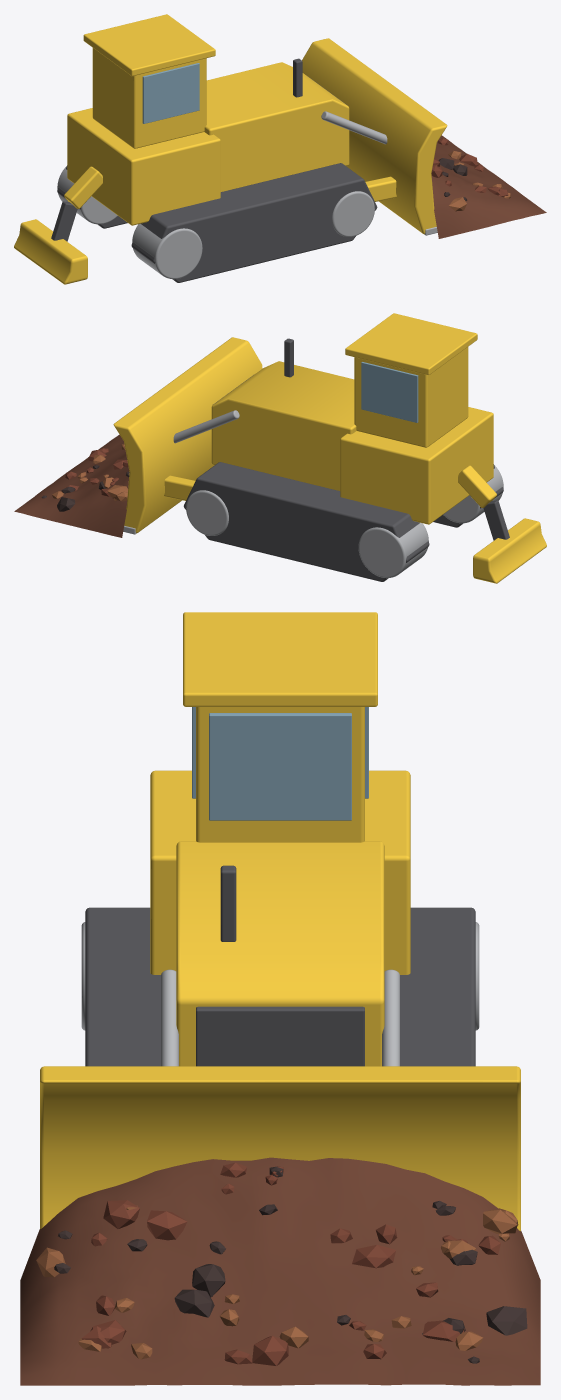
The model's file is dozer.glb.
3 views of the same model, one above another, from view 1: azimuth 30°, elevation 25°; view 2: azimuth 150°, elevation 25°; view 3: azimuth 270°, elevation 25° (orthographic). The views are drawn at different scales.
Visible parts, largest first — view 1: DZ_Track_-1, DZ_Engine, DZ_Blade, DZ_RearBody, DZ_OreLoad, DZ_Cab, DZ_CabRoof, DZ_Cab_Side.001, DZ_RipperBar, DZ_Track_-1_sprocket, DZ_Track_-1_idler, DZ_Track_1_sprocket (+5 smaller); view 2: DZ_Engine, DZ_Track_1, DZ_Blade, DZ_RearBody, DZ_OreLoad, DZ_Cab, DZ_CabRoof, DZ_Cab_Side, DZ_RipperBar, DZ_Track_1_sprocket, DZ_Track_1_idler, DZ_Track_-1_sprocket (+5 smaller); view 3: DZ_OreLoad, DZ_Blade, DZ_Engine, DZ_CabRoof, DZ_Cab_Front, DZ_RearBody, DZ_Track_1, DZ_Track_-1, DZ_Grille, DZ_Cab, DZ_LiftCyl_1, DZ_LiftCyl_-1 (+1 smaller).
Part boxes in pixels (x1=…): DZ_Track_-1: x1=131, y1=163, x2=377, y2=282; DZ_Engine: x1=204, y1=62, x2=349, y2=191; DZ_Blade: x1=302, y1=38, x2=447, y2=234; DZ_RearBody: x1=67, y1=108, x2=220, y2=225; DZ_OreLoad: x1=431, y1=135, x2=546, y2=238; DZ_Cab: x1=92, y1=48, x2=206, y2=148; DZ_CabRoof: x1=83, y1=14, x2=215, y2=76; DZ_Cab_Side.001: x1=142, y1=63, x2=199, y2=123; DZ_RipperBar: x1=14, y1=219, x2=87, y2=284; DZ_Track_-1_sprocket: x1=132, y1=223, x2=202, y2=279; DZ_Track_-1_idler: x1=332, y1=191, x2=374, y2=236; DZ_Track_1_sprocket: x1=57, y1=166, x2=117, y2=224; DZ_Engine: x1=211, y1=361, x2=356, y2=490; DZ_Track_1: x1=183, y1=462, x2=429, y2=581; DZ_Blade: x1=113, y1=337, x2=262, y2=533; DZ_RearBody: x1=340, y1=407, x2=493, y2=524; DZ_OreLoad: x1=14, y1=434, x2=129, y2=537; DZ_Cab: x1=354, y1=347, x2=468, y2=447; DZ_CabRoof: x1=345, y1=313, x2=477, y2=375; DZ_Cab_Side: x1=361, y1=362, x2=418, y2=422; DZ_RipperBar: x1=473, y1=518, x2=546, y2=583; DZ_Track_1_sprocket: x1=358, y1=522, x2=428, y2=578; DZ_Track_1_idler: x1=186, y1=490, x2=228, y2=535; DZ_Track_-1_sprocket: x1=443, y1=465, x2=503, y2=523; DZ_OreLoad: x1=20, y1=1157, x2=540, y2=1385; DZ_Blade: x1=40, y1=1066, x2=520, y2=1230; DZ_Engine: x1=176, y1=841, x2=384, y2=1066; DZ_CabRoof: x1=183, y1=612, x2=377, y2=706; DZ_Cab_Front: x1=209, y1=713, x2=351, y2=820; DZ_RearBody: x1=150, y1=770, x2=410, y2=974; DZ_Track_1: x1=400, y1=907, x2=475, y2=1066; DZ_Track_-1: x1=85, y1=907, x2=160, y2=1066; DZ_Grille: x1=196, y1=1006, x2=364, y2=1066; DZ_Cab: x1=196, y1=707, x2=364, y2=842; DZ_LiftCyl_1: x1=382, y1=969, x2=399, y2=1066; DZ_LiftCyl_-1: x1=161, y1=969, x2=178, y2=1066.
Bounding box in the file's own units: 7.87 × 3.47 × 4.
